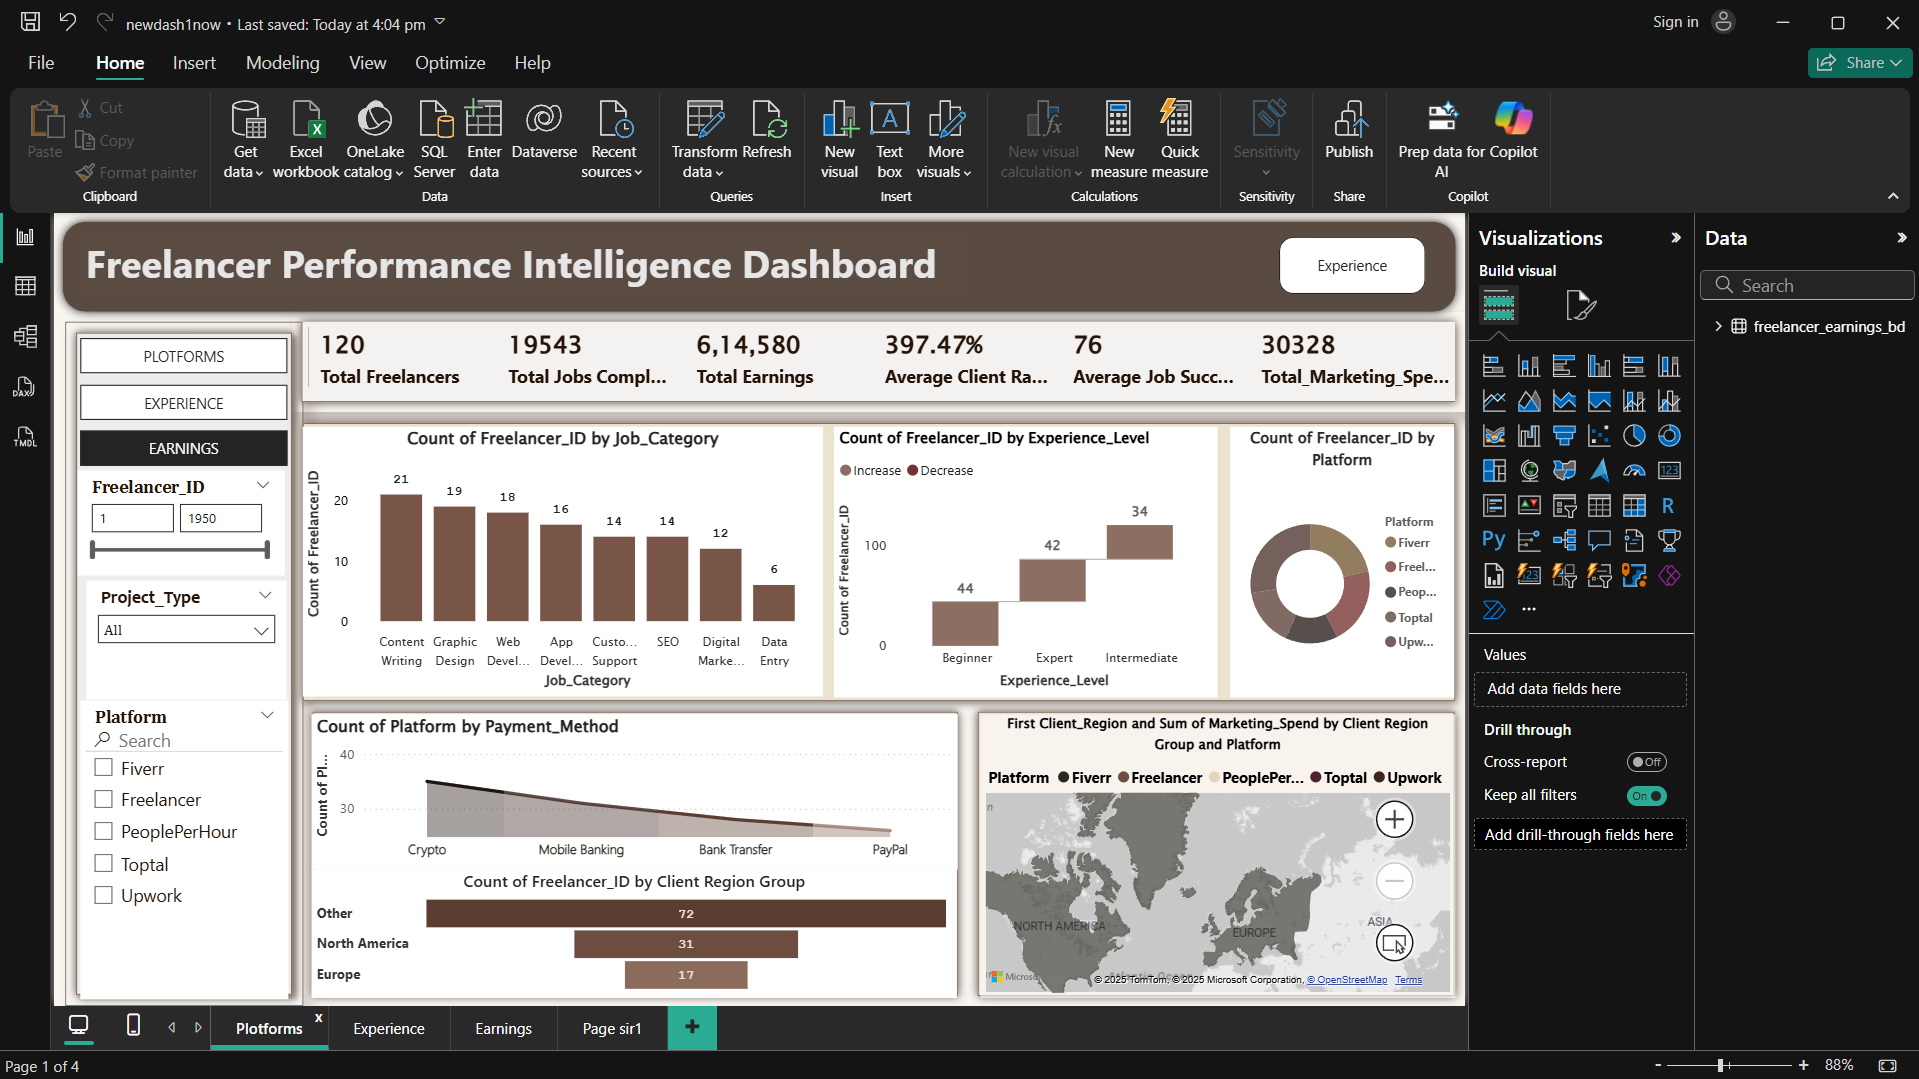

What the dashboard file says about the page in this screenshot:
{"tool":"powerbi","page":{"name":"Plotforms","canvas":[1280,720],"ordinal":0},"visuals":[{"type":"shape","box":[0,0,1280,97.5],"z":0},{"type":"slicer","title":"platform","fields":{"Values":["freelancer_earnings_bd.Platform"]},"box":[23.8,442.5,188.8,271.2],"z":0,"group":"g1"},{"type":"textbox","title":"Freelancer Performance Intelligence Dashboard","box":[24.2,21.5,804.7,52.4],"z":1000},{"type":"slicer","title":"project_type","fields":{"Values":["freelancer_earnings_bd.Project_Type"]},"box":[30.1,333,181.2,108.1],"z":1000,"group":"g1"},{"type":"shape","box":[10,99,216,621],"z":2000},{"type":"slicer","title":"freelancer_id","fields":{"Values":["freelancer_earnings_bd.Freelancer_ID"]},"box":[21.8,233.4,187.1,94.1],"z":2000,"group":"g1"},{"type":"shape","box":[215.5,89.7,1064.7,90.9],"z":3000},{"type":"shape","box":[226,443.8,603.4,276.1],"z":4000},{"type":"shape","box":[216.1,181.3,1063.9,270.5],"z":5000},{"type":"shape","box":[829.4,443.8,450.8,276.1],"z":6000},{"type":"multiRowCard","fields":{"Values":["freelancer_earnings_bd.Total Freelancers","freelancer_earnings_bd.Total Jobs Completed","freelancer_earnings_bd.Total Earnings","freelancer_earnings_bd.Average Client Rating","freelancer_earnings_bd.Average Job Success Rate","freelancer_earnings_bd.Total_Marketing_Spend"]},"box":[226.2,98.6,1045.4,72.2],"z":7000},{"type":"columnChart","fields":{"Category":["freelancer_earnings_bd.Job_Category"],"Y":["CountNonNull(freelancer_earnings_bd.Freelancer_ID)"]},"box":[225.7,194,471.8,245],"z":8000},{"type":"waterfallChart","fields":{"Category":["freelancer_earnings_bd.Experience_Level"],"Y":["CountNonNull(freelancer_earnings_bd.Freelancer_ID)"]},"box":[707.4,193.7,347.7,245.4],"z":9000},{"type":"donutChart","fields":{"Y":["Count(freelancer_earnings_bd.Freelancer_ID)"],"Series":["freelancer_earnings_bd.Platform"]},"box":[1067.1,193.7,203.3,245.4],"z":10000},{"type":"filledMap","fields":{"Y":["Min(freelancer_earnings_bd.Client_Region)"],"Series":["freelancer_earnings_bd.Platform"],"Category":["freelancer_earnings_bd.Client Region Group"]},"box":[839.9,454.3,431,257.4],"z":11000},{"type":"areaChart","fields":{"Category":["freelancer_earnings_bd.Payment_Method"],"Y":["CountNonNull(freelancer_earnings_bd.Platform)"]},"box":[233.6,454.8,586.4,140.6],"z":12000},{"type":"funnel","fields":{"Category":["freelancer_earnings_bd.Client Region Group"],"Y":["CountNonNull(freelancer_earnings_bd.Freelancer_ID)"]},"box":[234.1,595.3,585.9,116.5],"z":13000},{"type":"group","id":"g1","title":"PLOTFORMS","box":[21.8,233.4,190.7,480.4],"z":14000},{"type":"bookmarkNavigator","box":[23.8,113.4,188.3,116.8],"z":17000},{"type":"pageNavigator","box":[1111.6,21.7,133.5,52.9],"z":18000}]}

Visuals, with their boxes on the page's 1280x720 design canvas (x1, y1, x2, y2). These are canvas units, not pixel positions in the 1919x1079 screenshot, which may show the page scaled, cropped or inside an application window:
shape: 0/0/1280/98
"platform" slicer: 24/442/213/714
"Freelancer Performance Intelligence Dashboard" textbox: 24/22/829/74
"project_type" slicer: 30/333/211/441
shape: 10/99/226/720
"freelancer_id" slicer: 22/233/209/328
shape: 216/90/1280/181
shape: 226/444/829/720
shape: 216/181/1280/452
shape: 829/444/1280/720
multiRowCard - freelancer_earnings_bd.Total Freelancers x freelancer_earnings_bd.Total Jobs Completed: 226/99/1272/171
columnChart - freelancer_earnings_bd.Job_Category x CountNonNull(freelancer_earnings_bd.Freelancer_ID): 226/194/698/439
waterfallChart - freelancer_earnings_bd.Experience_Level x CountNonNull(freelancer_earnings_bd.Freelancer_ID): 707/194/1055/439
donutChart - Count(freelancer_earnings_bd.Freelancer_ID) x freelancer_earnings_bd.Platform: 1067/194/1270/439
filledMap - Min(freelancer_earnings_bd.Client_Region) x freelancer_earnings_bd.Platform: 840/454/1271/712
areaChart - freelancer_earnings_bd.Payment_Method x CountNonNull(freelancer_earnings_bd.Platform): 234/455/820/595
funnel - freelancer_earnings_bd.Client Region Group x CountNonNull(freelancer_earnings_bd.Freelancer_ID): 234/595/820/712
"PLOTFORMS" group: 22/233/212/714
bookmarkNavigator: 24/113/212/230
pageNavigator: 1112/22/1245/75
